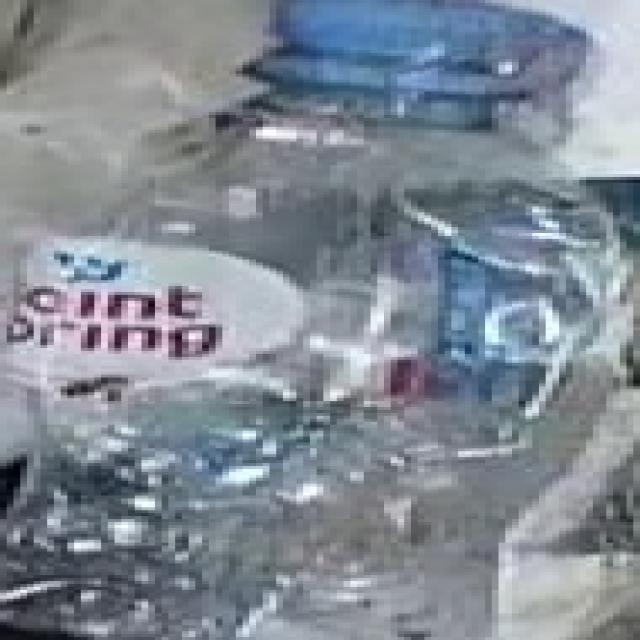litter: (4, 0, 634, 640)
